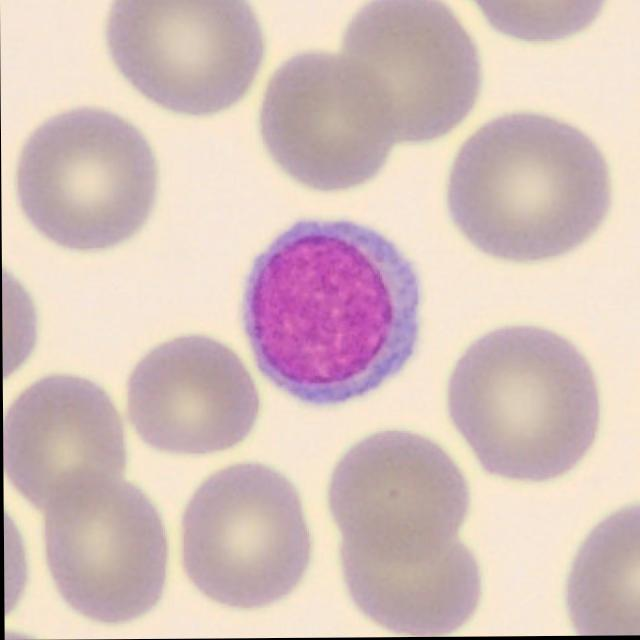Linfocito: (241, 221, 421, 408)
